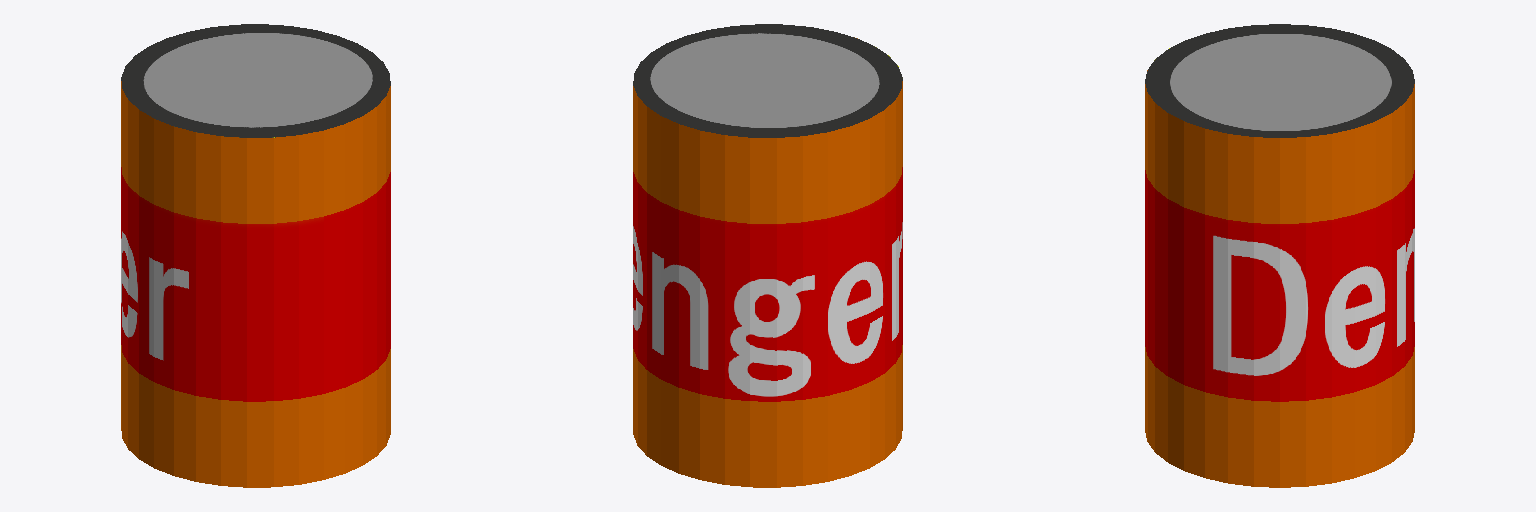
3 views of the same model, side by side, from view 1: azimuth 30°, elevation 25°; view 2: azimuth 150°, elevation 25°; view 3: azimuth 270°, elevation 25° (orthographic).
Parts seen in each view (by area): view 1: Drum; view 2: Drum; view 3: Drum.
Part boxes in pixels (x1,y1,x2,y2): Drum: (121, 24, 390, 487); Drum: (633, 24, 902, 487); Drum: (1145, 24, 1414, 487).
Bounding box in the file's own units: 0.7 × 1 × 0.7.
1 materials, 1 textured.